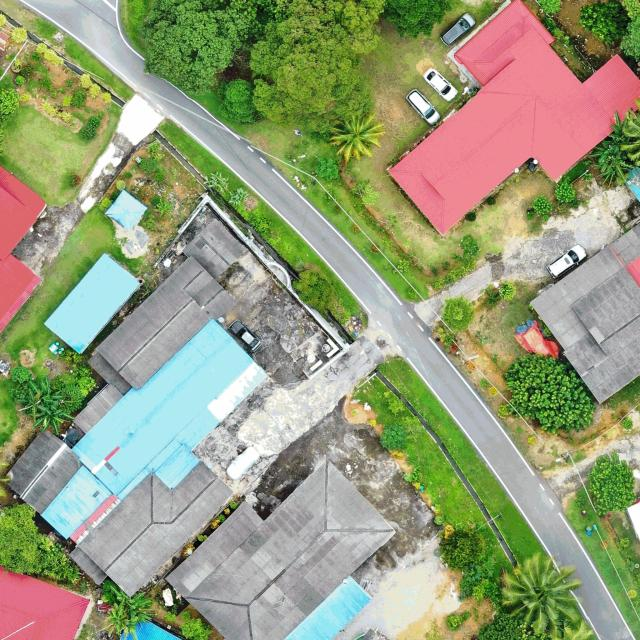Tree: (250, 0, 386, 134), (144, 0, 243, 96), (497, 352, 596, 436), (501, 552, 582, 636), (0, 502, 54, 576), (588, 451, 637, 516), (328, 111, 386, 163), (578, 0, 632, 45), (440, 522, 486, 572), (30, 399, 78, 435), (222, 78, 256, 124), (100, 602, 138, 640), (595, 154, 635, 188), (440, 296, 475, 332), (587, 140, 628, 169), (27, 375, 63, 405), (128, 590, 154, 627), (17, 388, 45, 422), (609, 108, 635, 144), (180, 616, 212, 640)
